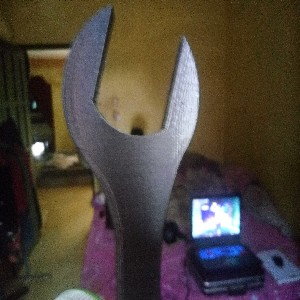spanner: (61, 4, 201, 300)
